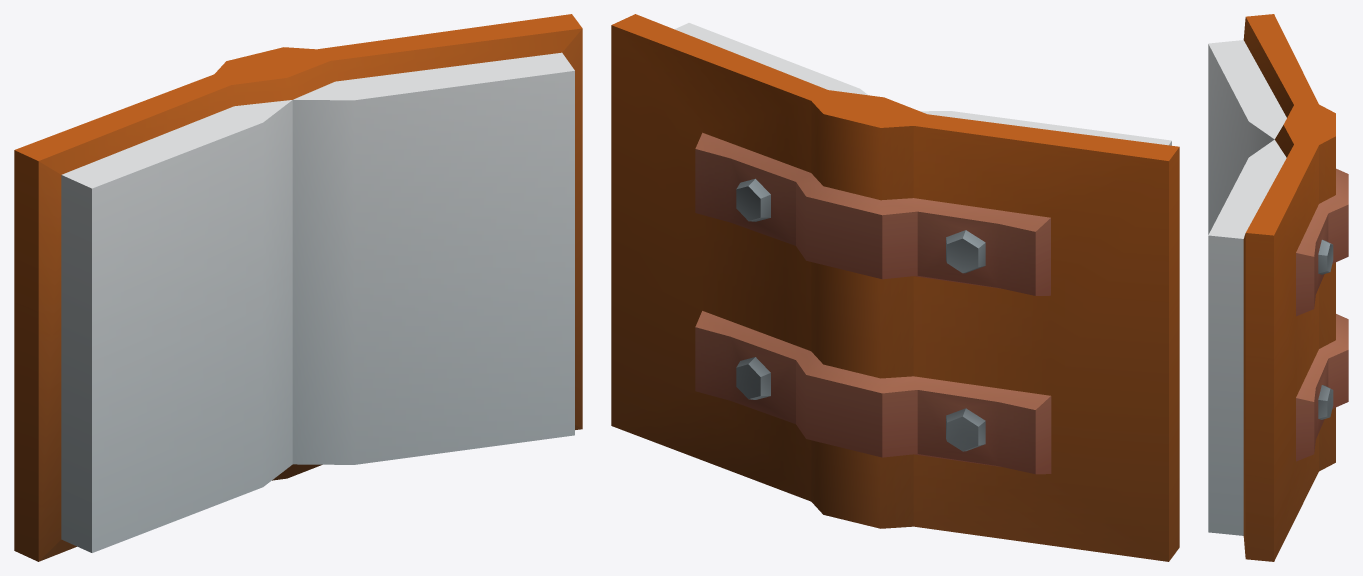
Rendered from spellbook_open_fire.gltf.
The picture shows the model from 3 angles, left to right: view 1: azimuth 30°, elevation 25°; view 2: azimuth 150°, elevation 25°; view 3: azimuth 270°, elevation 25°; orthographic projection. The views are drawn at different scales.
Visible parts, largest first — view 1: spellbook_open; view 2: spellbook_open; view 3: spellbook_open.
Boxes of the visible parts, x1,y1,x2,y2 form: spellbook_open: (14,14,582,561); spellbook_open: (611,14,1179,561); spellbook_open: (1208,14,1348,561).
Size of the model in its own units: 0.8282 by 0.5688 by 0.2219.
Materials: 1 (1 with a texture image).
